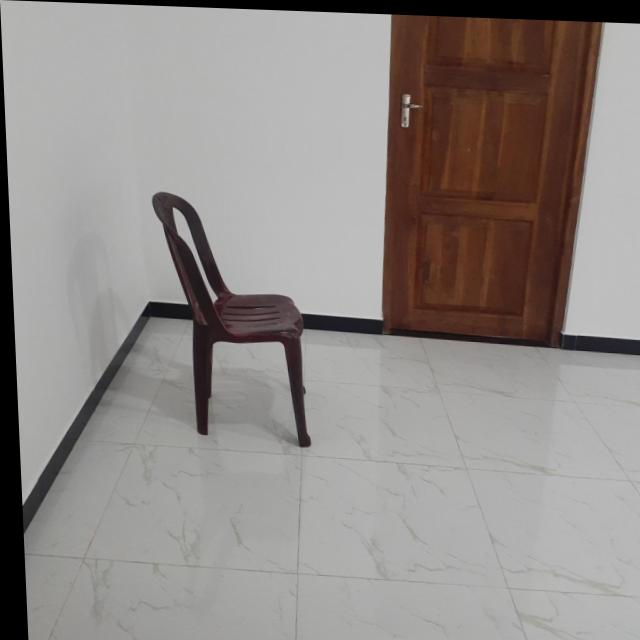Chair: (152, 189, 306, 445)
